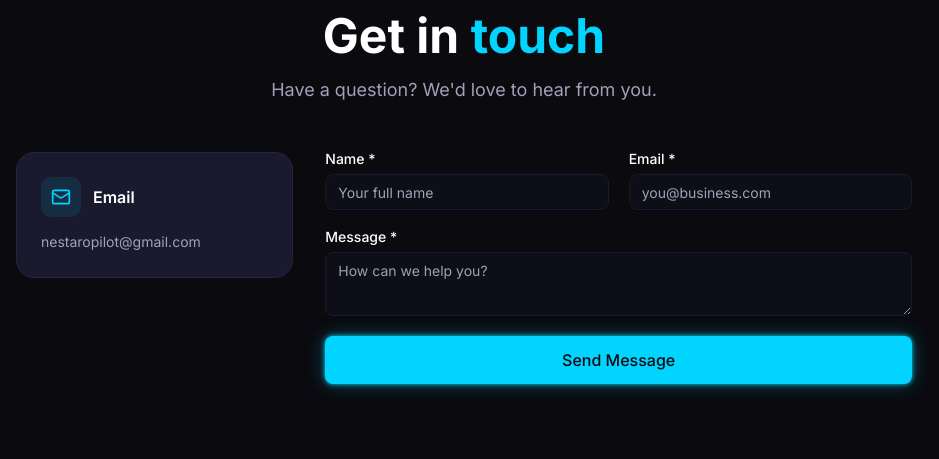
Scenario: Contact › shows validation errors on empty submit
Click the button "Send Message" at x=619, y=360, box x1=325 y1=336 x2=912 y2=384
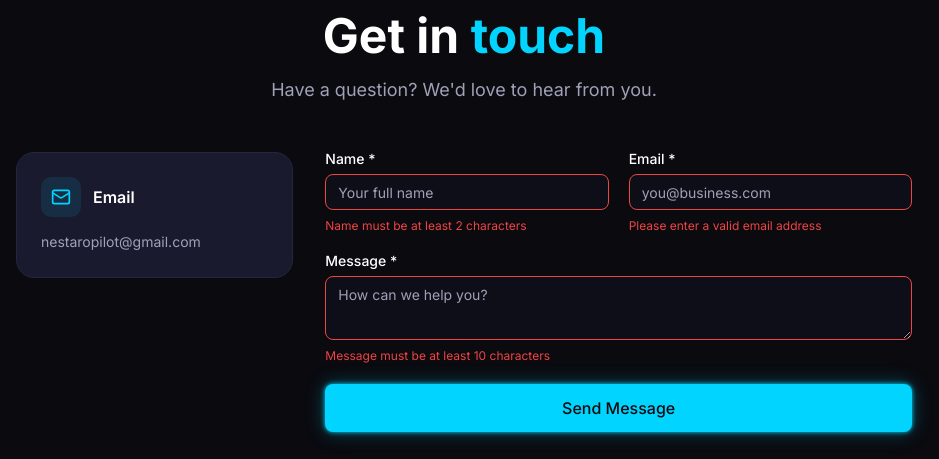
Check: the text "Name must be at least 2 characters" is shown, box x1=325 y1=218 x2=526 y2=233
